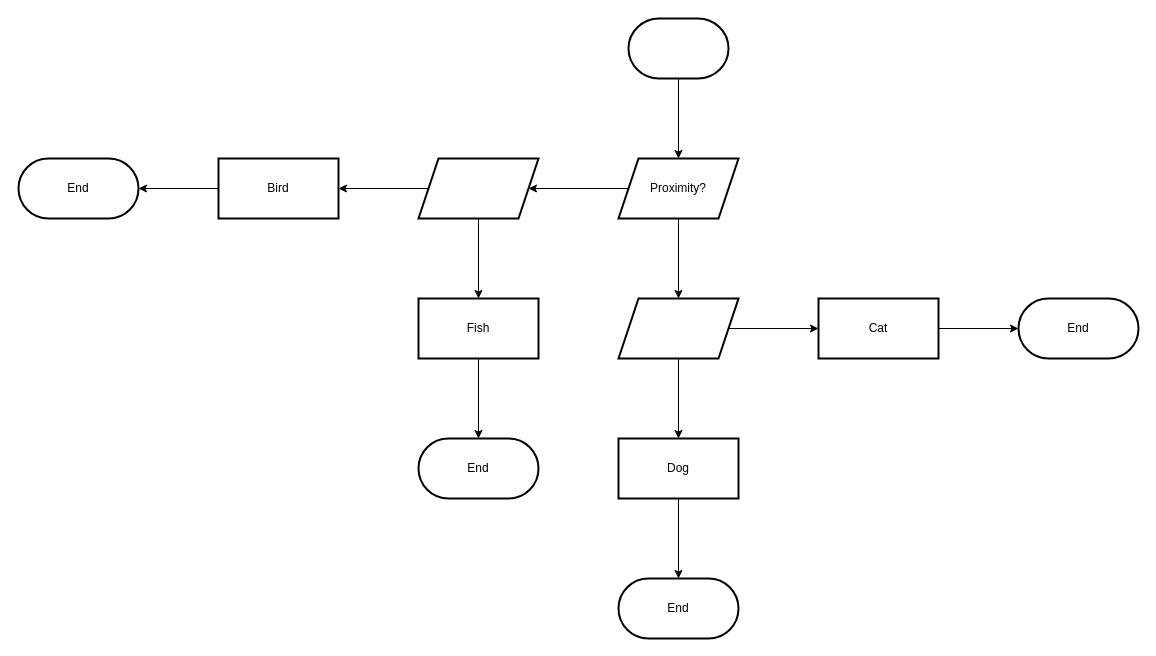
Image size: 1156x656. Some labels were removed from this diagram. Each missing label, with the centre of its shape:
"Alergic?" goes at point 678,328.
"Noise?" goes at point 478,188.
"Start" goes at point 678,48.
